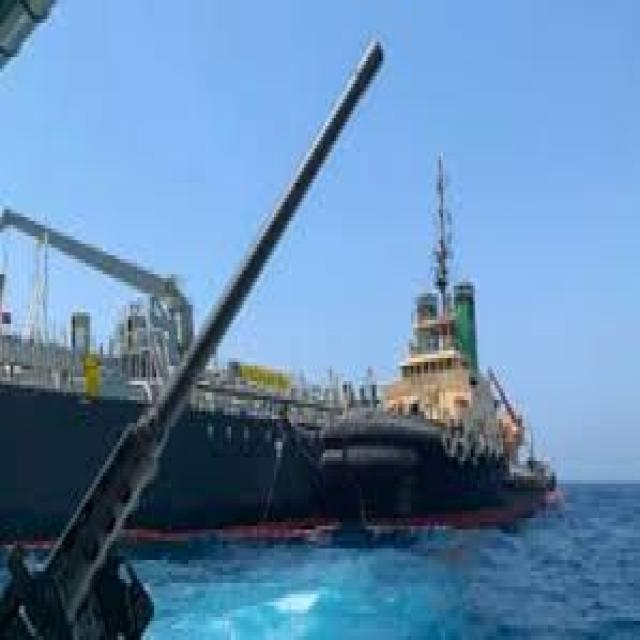navalvessels: (326, 156, 558, 526)
